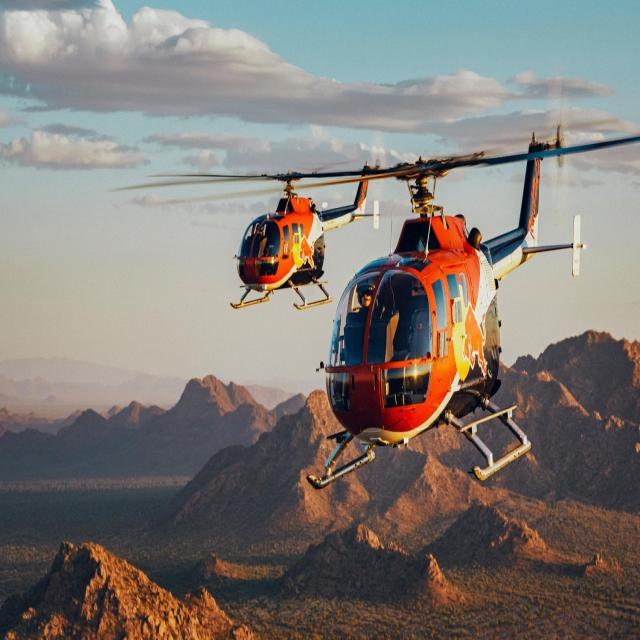helicopter: (301, 106, 640, 500), (171, 132, 401, 315)
